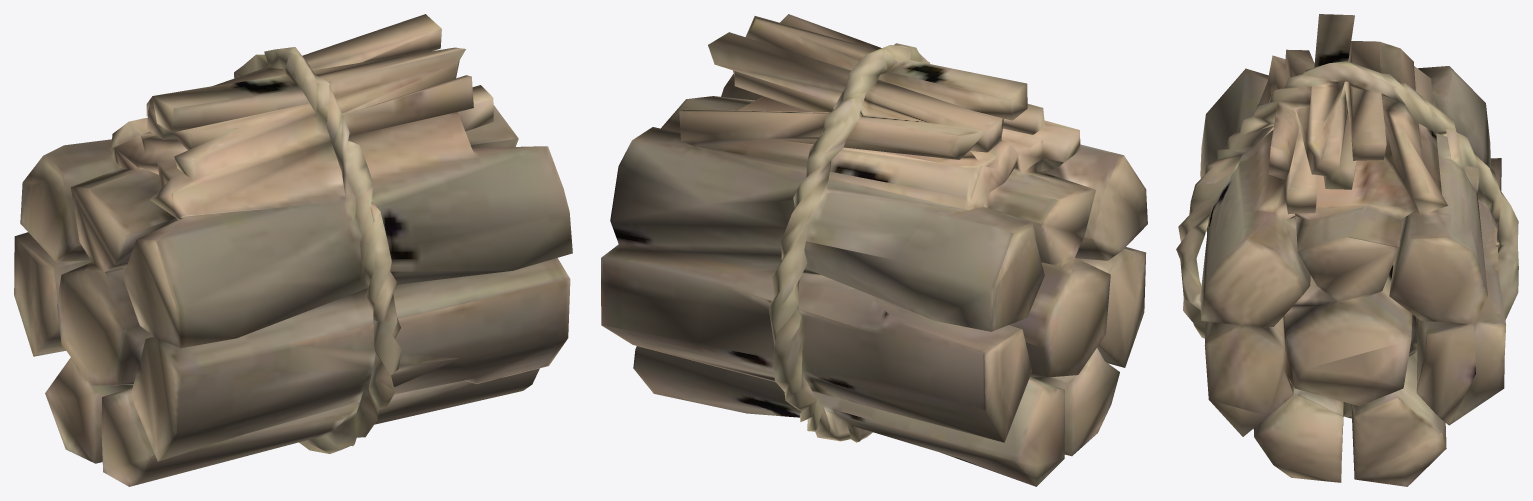
Rendered from campfire_kit.glb.
3 views of the same model, side by side, from view 1: azimuth 30°, elevation 25°; view 2: azimuth 150°, elevation 25°; view 3: azimuth 270°, elevation 25° (orthographic). The views are drawn at different scales.
Visible parts, largest first — view 1: Mesh1.0; view 2: Mesh1.0; view 3: Mesh1.0.
Boxes of the visible parts, bbox=[...] form: Mesh1.0: bbox=[14, 14, 572, 486]; Mesh1.0: bbox=[601, 14, 1147, 486]; Mesh1.0: bbox=[1176, 14, 1518, 486].
Size of the model in its own units: 1.91 by 1.74 by 1.53.
Materials: 1 (1 with a texture image).
